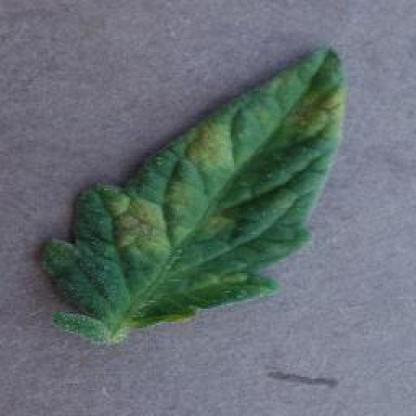Tomato_Leaf_Mold: (43, 49, 344, 341)
